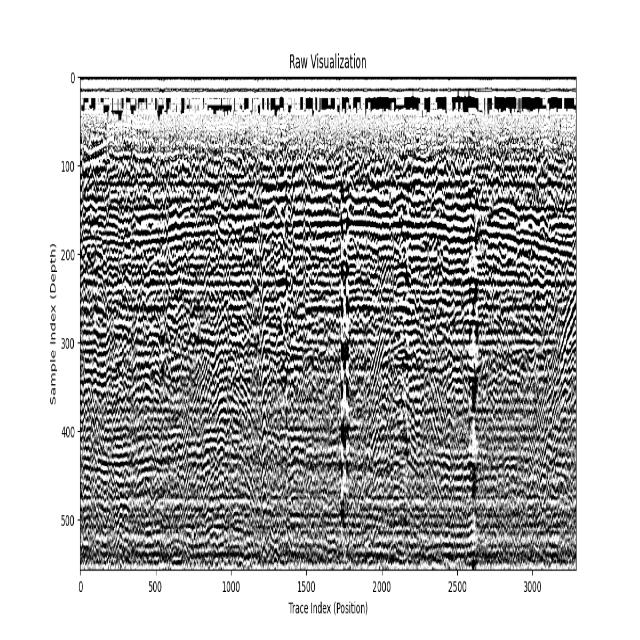anomaly: (351, 267, 451, 547), (527, 269, 577, 567), (81, 362, 116, 540), (340, 194, 347, 557), (471, 221, 478, 566)
